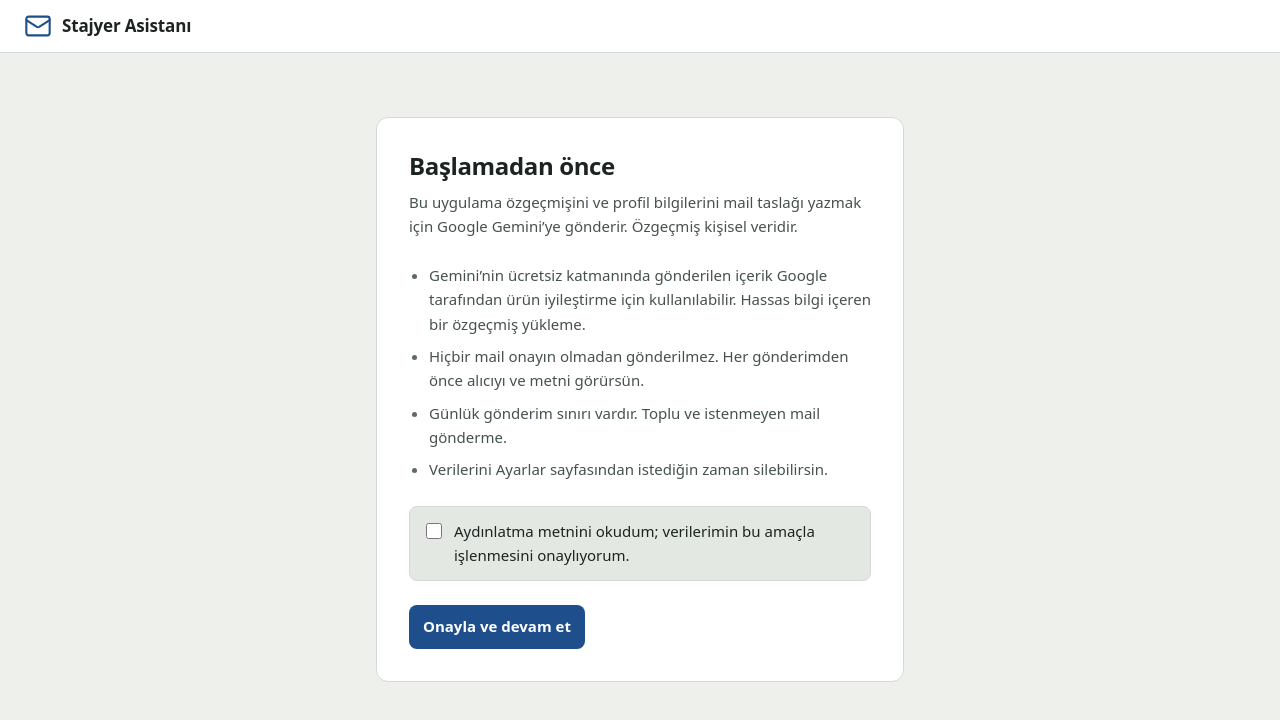
it: App (demo modu) › onay alınmadan uygulama açılmaz
This screenshot has width=1280, height=720.
# Onaysız tıklama: neden söylenir, odak kutuya gider, uygulama açılmaz.
Click the button "Onayla ve devam et" at {"x": 497, "y": 626}, box [409,604,585,648]
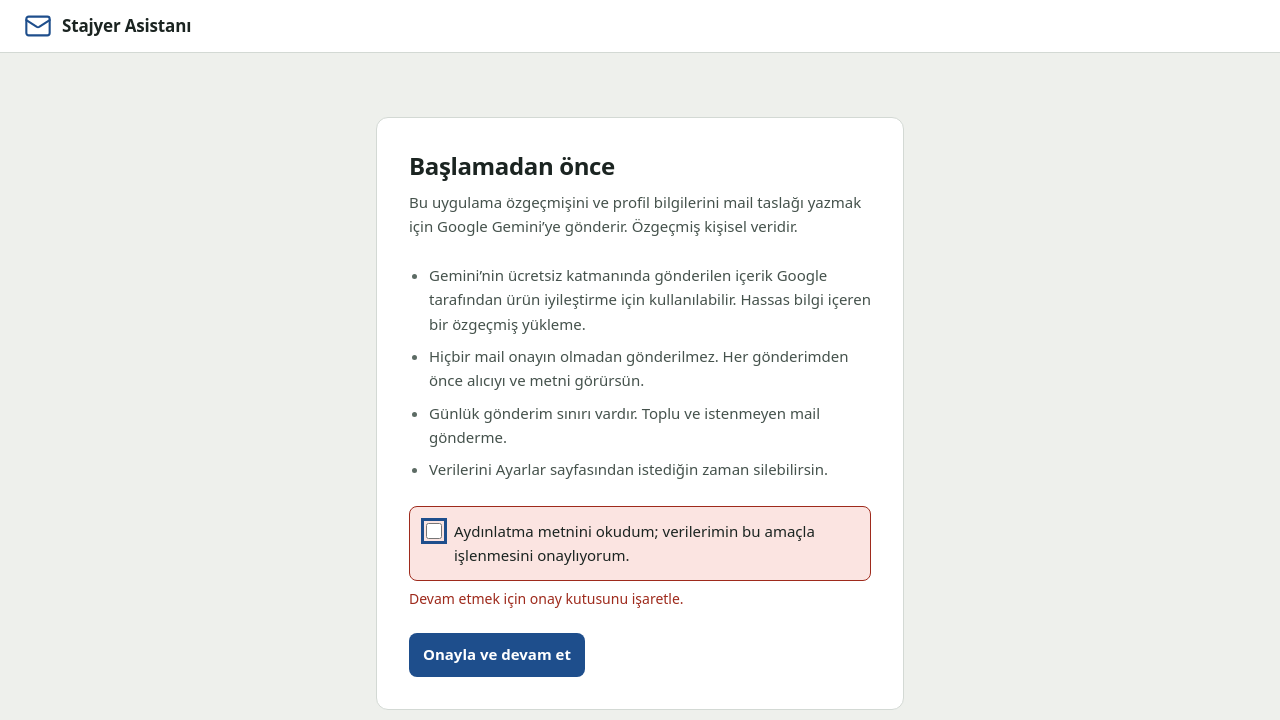
Result: the text "Devam etmek için onay kutusunu işaretle." is shown at [409,588,684,608]
# Klavye ile onay: Boşluk kutuyu işaretler, Enter düğmeyi çalıştırır.
Type keys " "
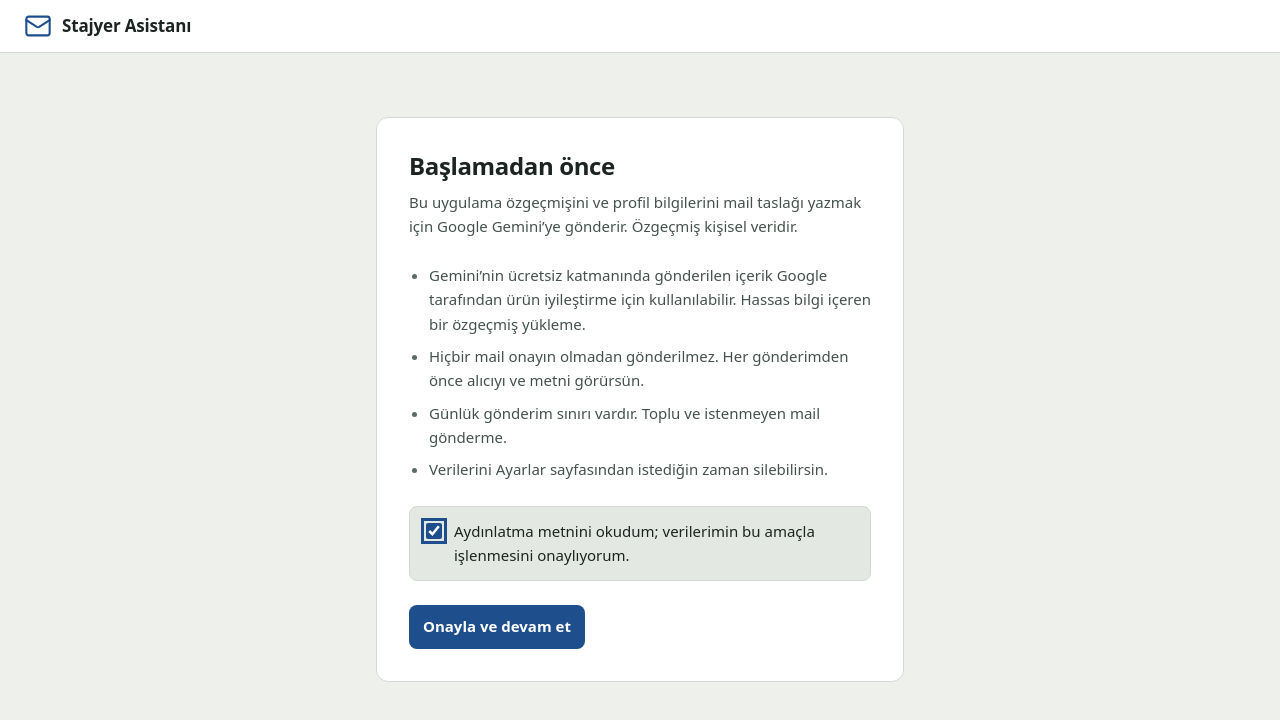
Result: the text "onay kutusunu işaretle" is gone
Press Tab
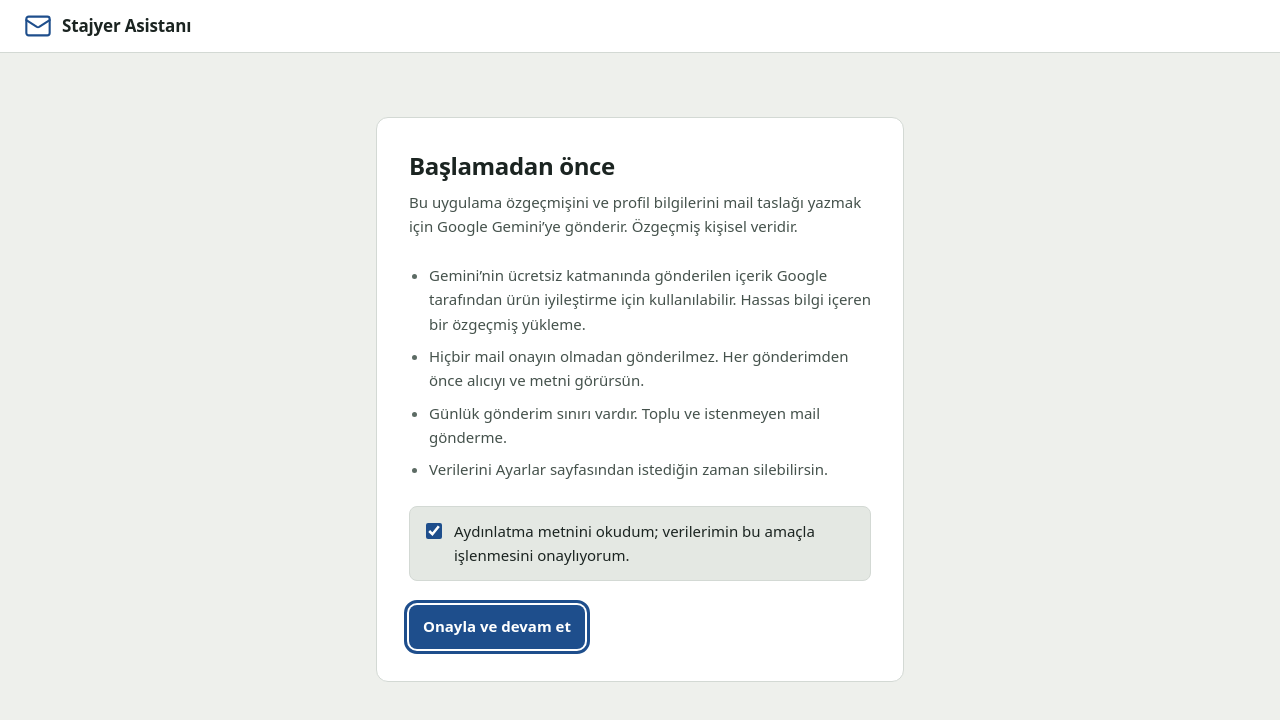
Press Enter
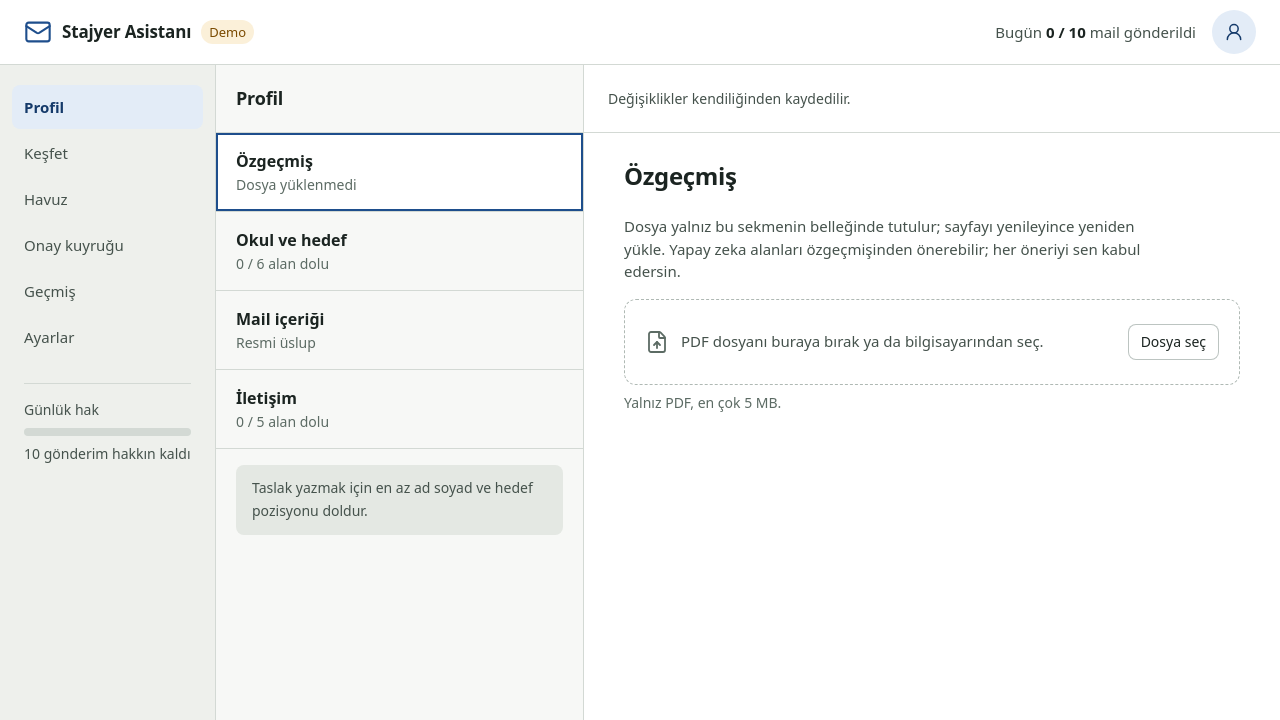
Result: the heading "Profil" is shown at [236,87,283,110]
